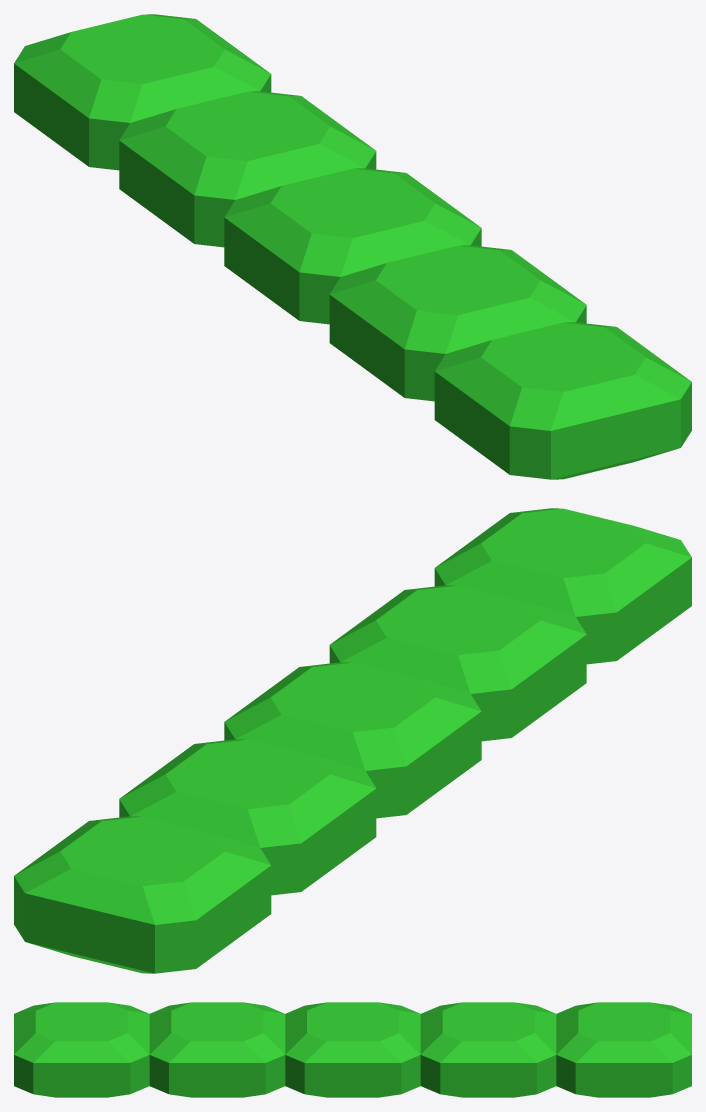
The picture shows the model from 3 angles, top to bottom: view 1: azimuth 30°, elevation 25°; view 2: azimuth 150°, elevation 25°; view 3: azimuth 270°, elevation 25°; orthographic projection. The views are drawn at different scales.
Visible parts, largest first — view 1: Cube.025; view 2: Cube.025; view 3: Cube.025.
Boxes of the visible parts, x1,y1,x2,y2 form: Cube.025: (14, 14, 691, 479); Cube.025: (14, 508, 691, 973); Cube.025: (14, 1002, 691, 1097).
Bounding box in the file's own units: 0.5 × 0.2288 × 2.5.
1 material, 1 textured.
